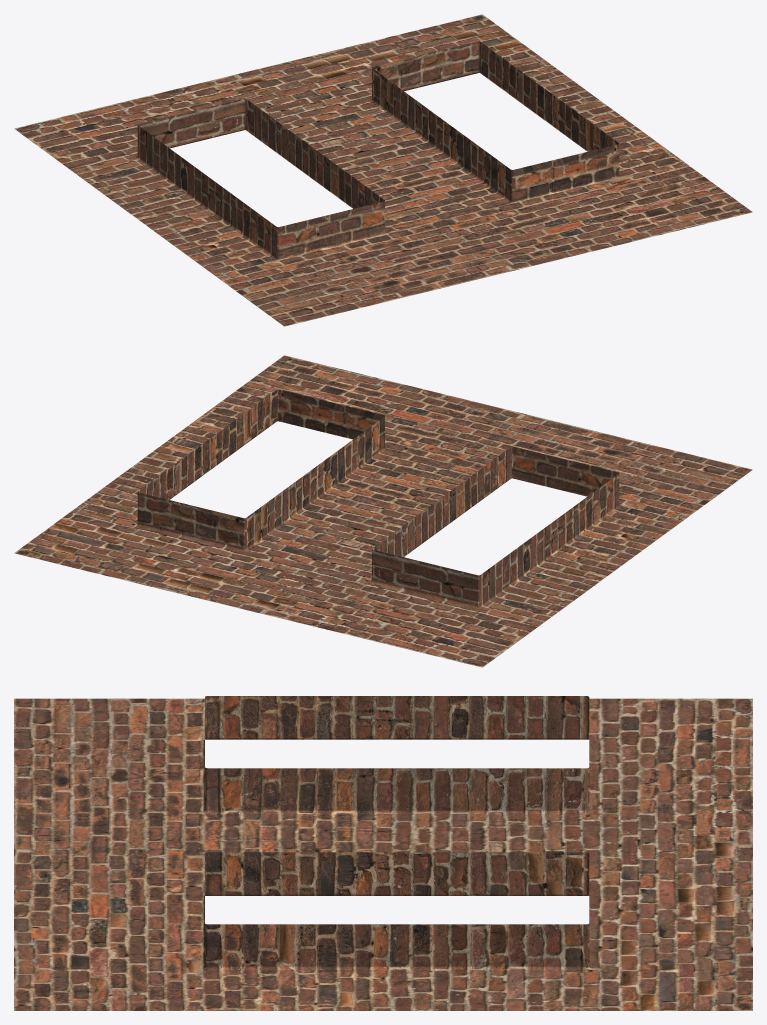
File: wall_window_centered_double_01.gltf
3 renders of one model, top to bottom at view 1: azimuth 30°, elevation 25°; view 2: azimuth 150°, elevation 25°; view 3: azimuth 270°, elevation 25°, orthographic. The views are drawn at different scales.
Visible parts, largest first — view 1: wall_window_centered_double_01; view 2: wall_window_centered_double_01; view 3: wall_window_centered_double_01.
Boxes of the visible parts, <box> form: wall_window_centered_double_01: <box>14,14,752,326</box>; wall_window_centered_double_01: <box>14,355,752,667</box>; wall_window_centered_double_01: <box>14,696,752,1010</box>.
Size of the model in its own units: 3 by 0.2 by 3.
Materials: 1 (1 with a texture image).
